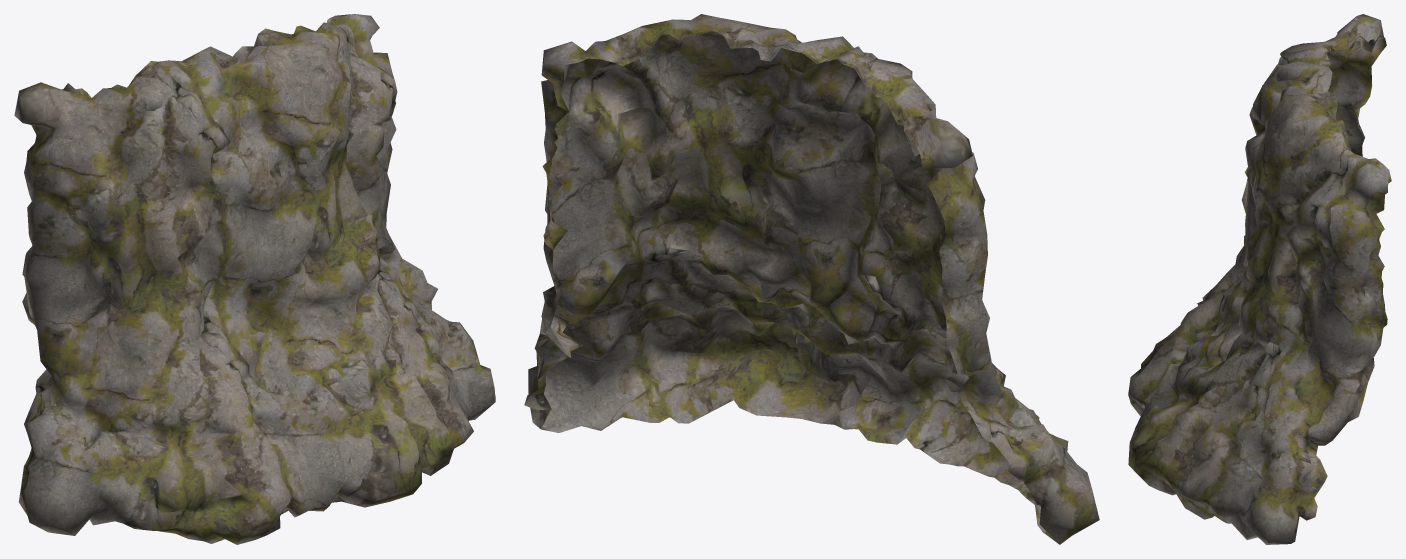
The picture shows the model from 3 angles, left to right: view 1: azimuth 30°, elevation 25°; view 2: azimuth 150°, elevation 25°; view 3: azimuth 270°, elevation 25°; orthographic projection. The views are drawn at different scales.
Parts seen in each view (by area): view 1: Cube.058; view 2: Cube.058; view 3: Cube.058.
Boxes of the visible parts, x1,y1,x2,y2 form: Cube.058: [14, 14, 495, 544]; Cube.058: [524, 14, 1099, 544]; Cube.058: [1128, 14, 1391, 544].
Bounding box in the file's own units: 45.89 × 38.02 × 23.78.
1 material, 1 textured.
